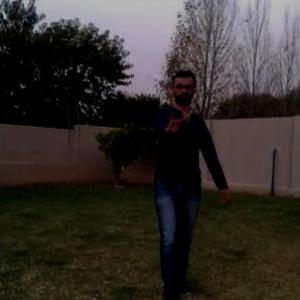takeoff-hand: (162, 104, 188, 137)
